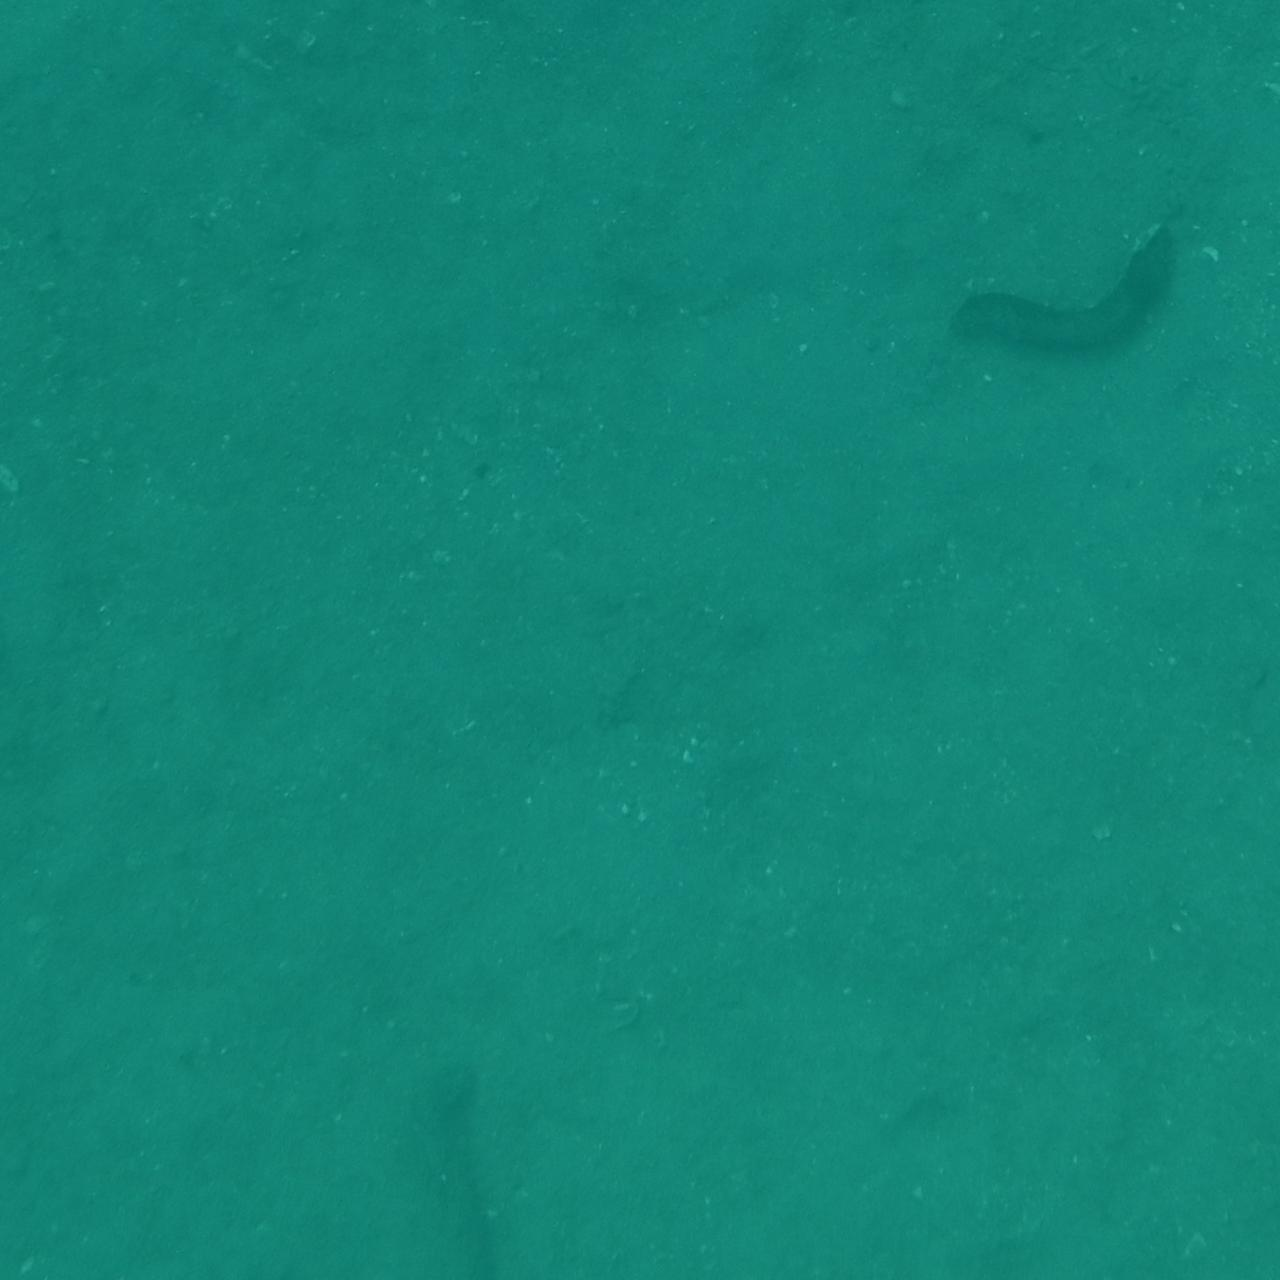Holothuria tubulosa: (930, 215, 1193, 377), (390, 1042, 522, 1280), (0, 745, 149, 917), (0, 425, 87, 715), (1169, 577, 1280, 777), (0, 454, 86, 704), (549, 0, 808, 79), (0, 0, 132, 148), (1105, 1185, 1280, 1280), (74, 1208, 291, 1280), (1224, 409, 1280, 654), (1157, 0, 1280, 111), (1171, 1157, 1280, 1280), (0, 1082, 129, 1176), (1191, 918, 1280, 1053), (0, 0, 56, 139), (0, 0, 103, 68)
